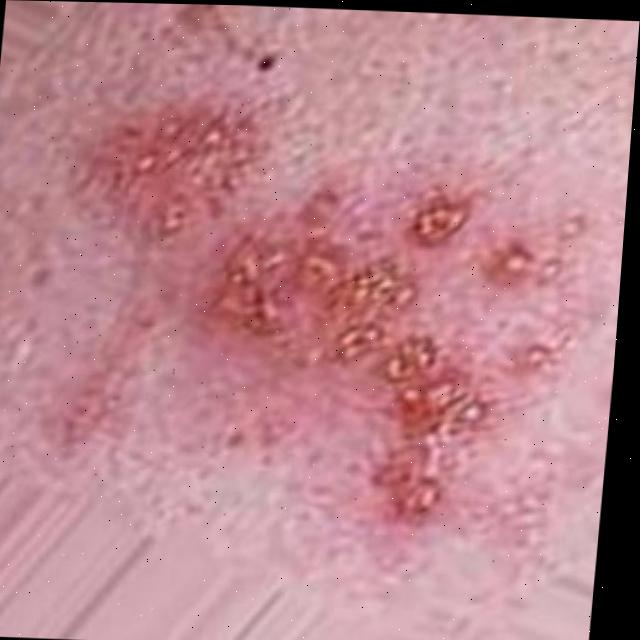Shingles: (70, 117, 579, 528)
